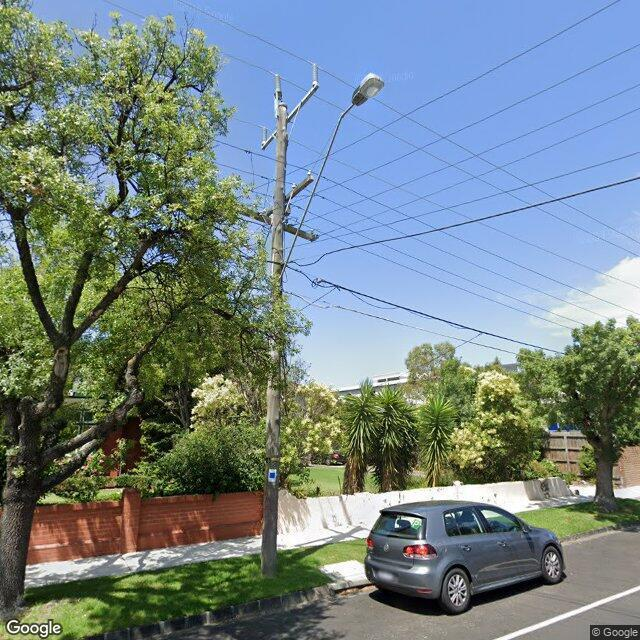HV-transmission: (262, 64, 318, 144)
crossarm: (261, 83, 319, 150), (237, 206, 318, 242), (261, 175, 314, 217)
streetlight: (279, 73, 385, 280)
timber-pole: (262, 103, 288, 577)
